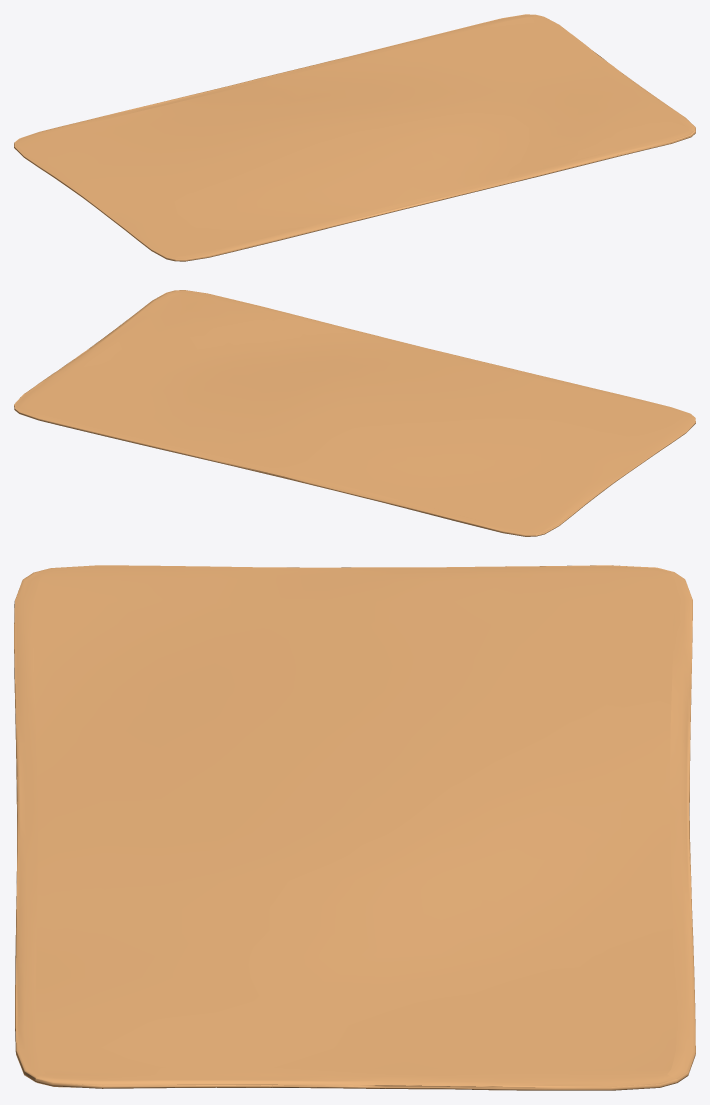
Rendered from Rug.fbx.
3 renders of one model, top to bottom at view 1: azimuth 30°, elevation 25°; view 2: azimuth 150°, elevation 25°; view 3: azimuth 270°, elevation 25°, orthographic. The views are drawn at different scales.
Visible parts, largest first — view 1: Rug; view 2: Rug; view 3: Rug.
Part boxes in pixels (x1,y1,x2,y2): Rug: (14,14,695,261); Rug: (14,290,695,536); Rug: (14,565,695,1090).
Bounding box in the file's own units: 431 × 5.99 × 238.
